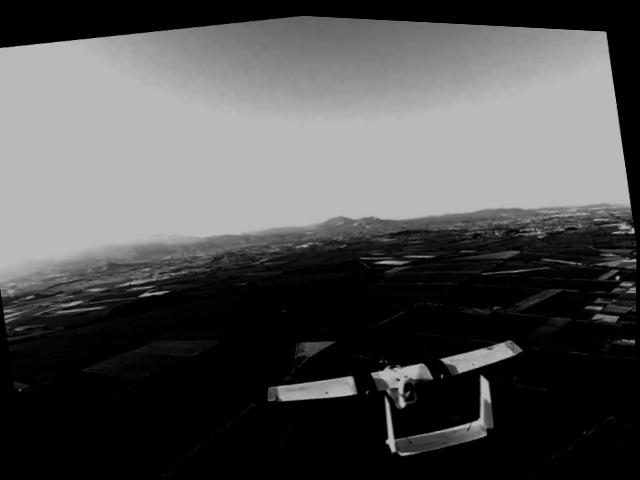hedef: (259, 298, 540, 480)
